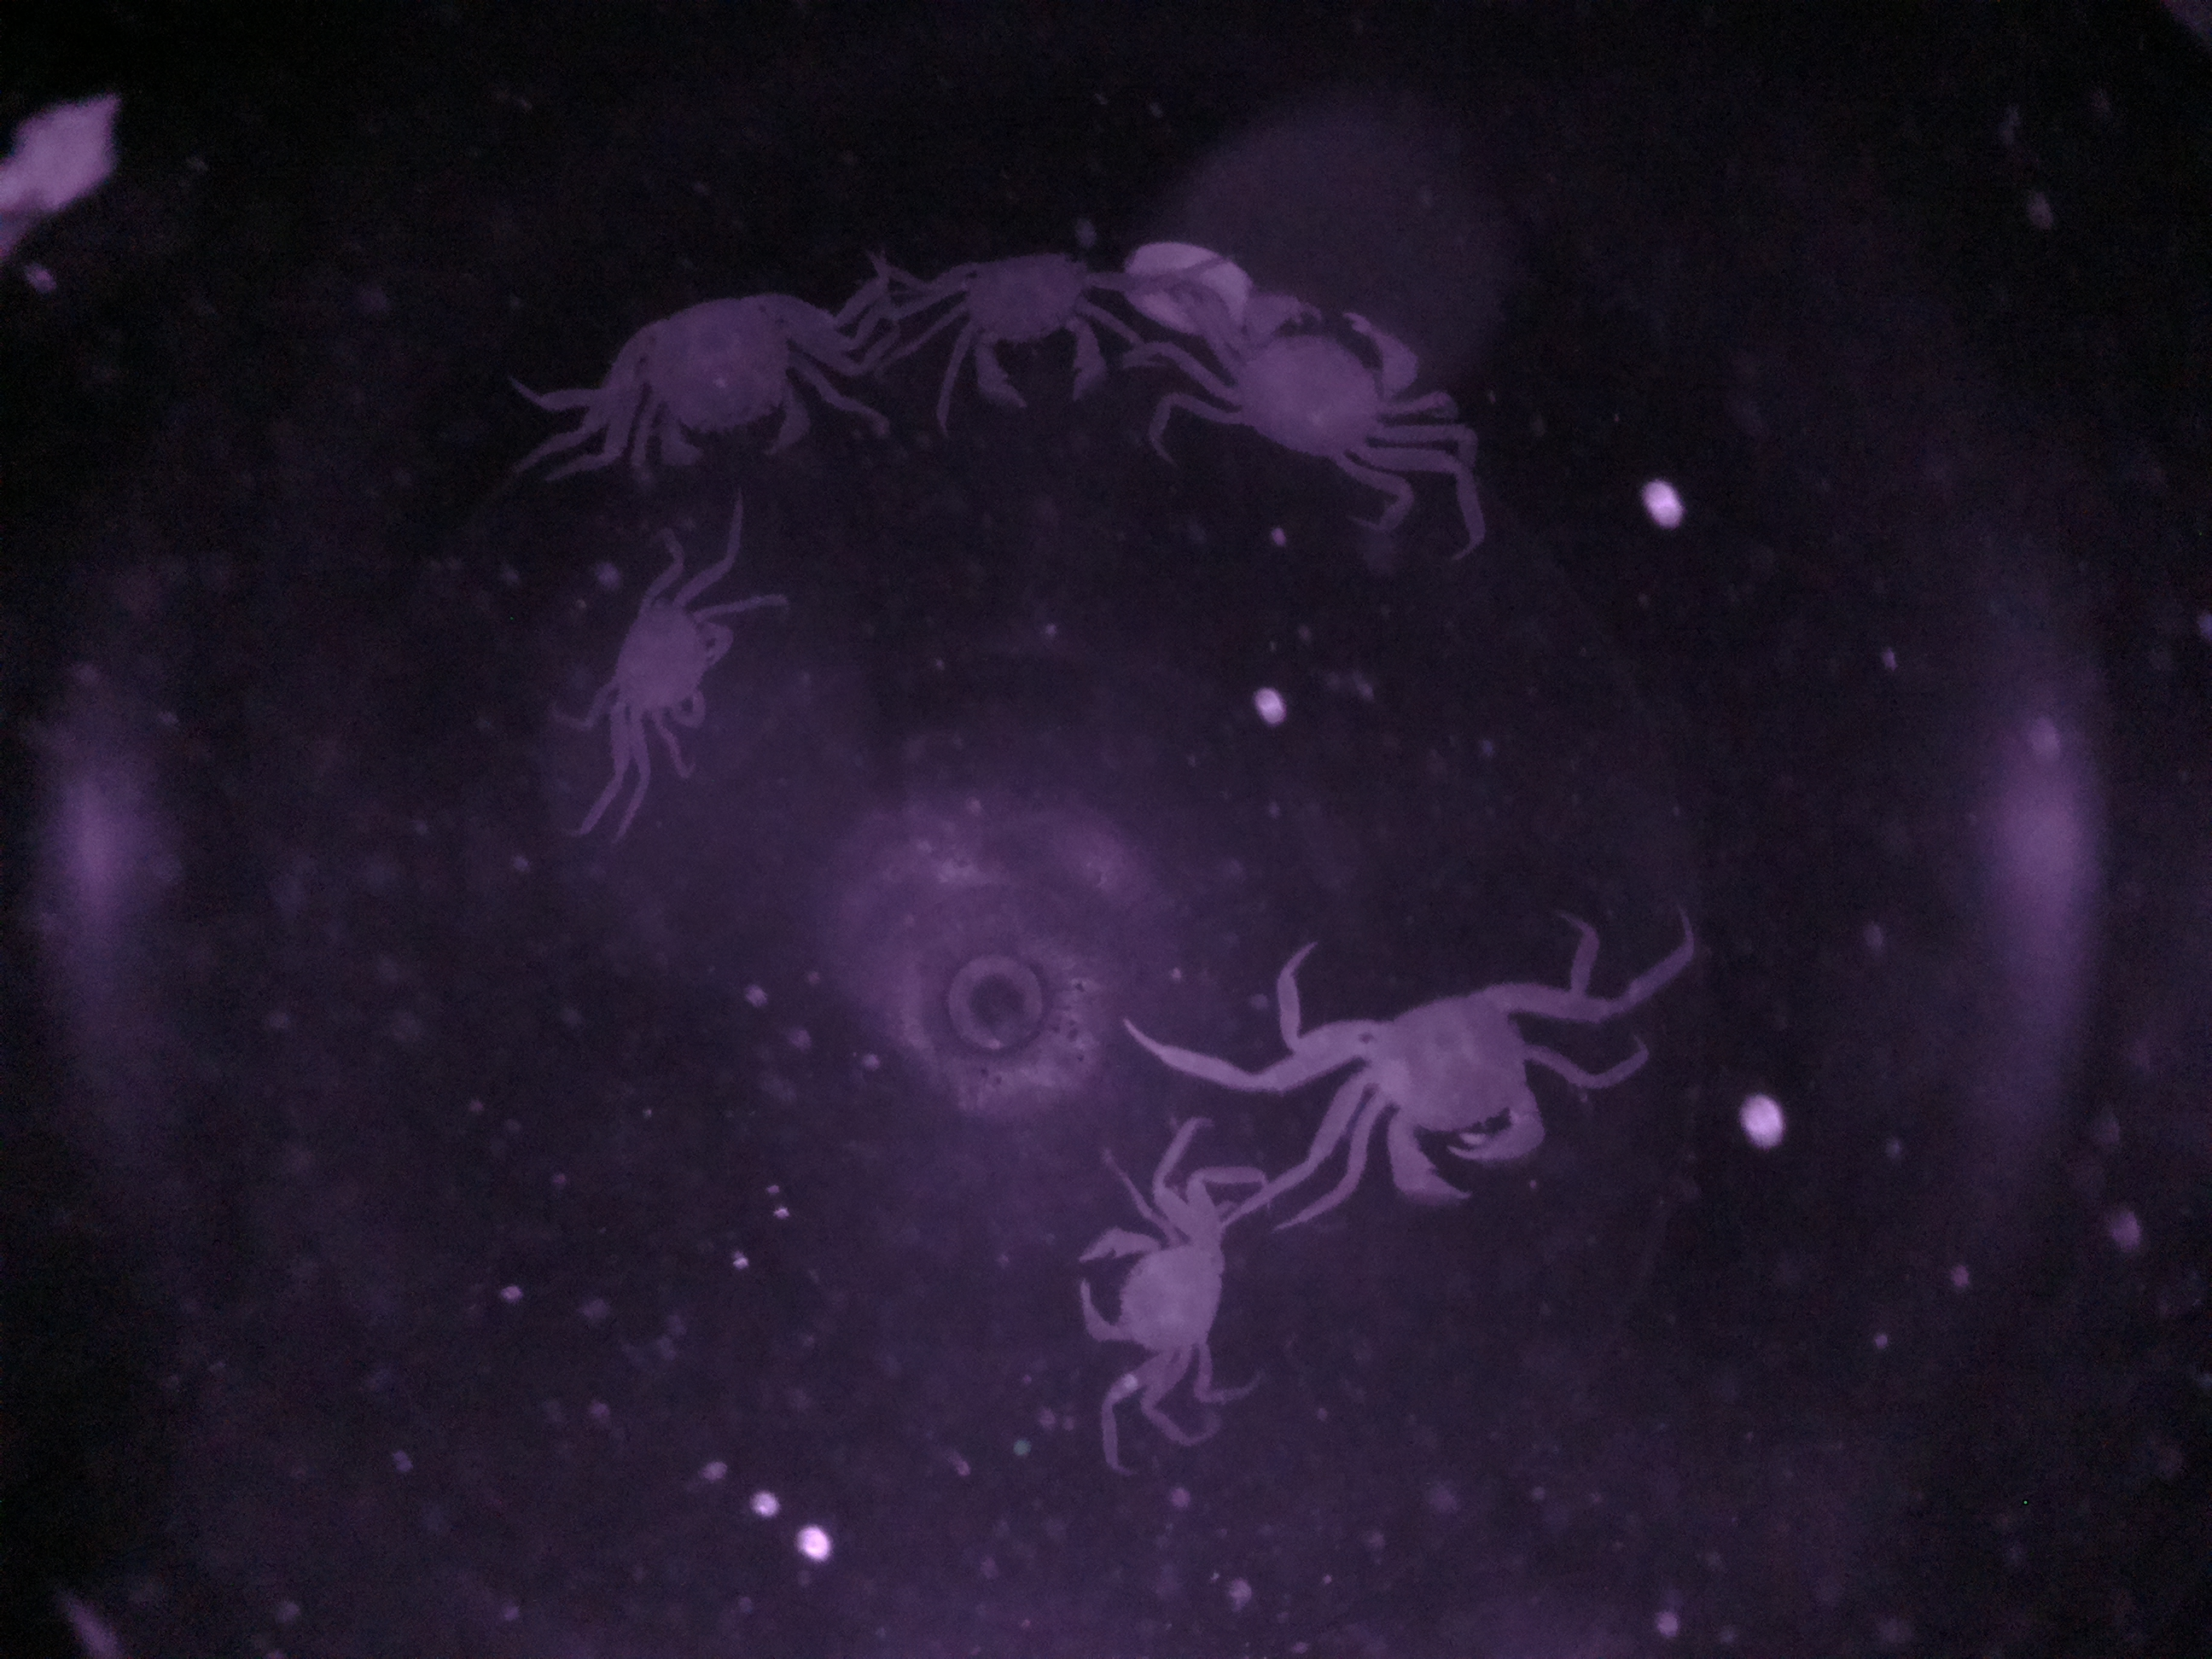Crab: (1317, 957, 1580, 1215), (583, 279, 859, 504), (1193, 282, 1456, 471), (1047, 1178, 1266, 1385), (907, 230, 1123, 425), (580, 559, 766, 755)
